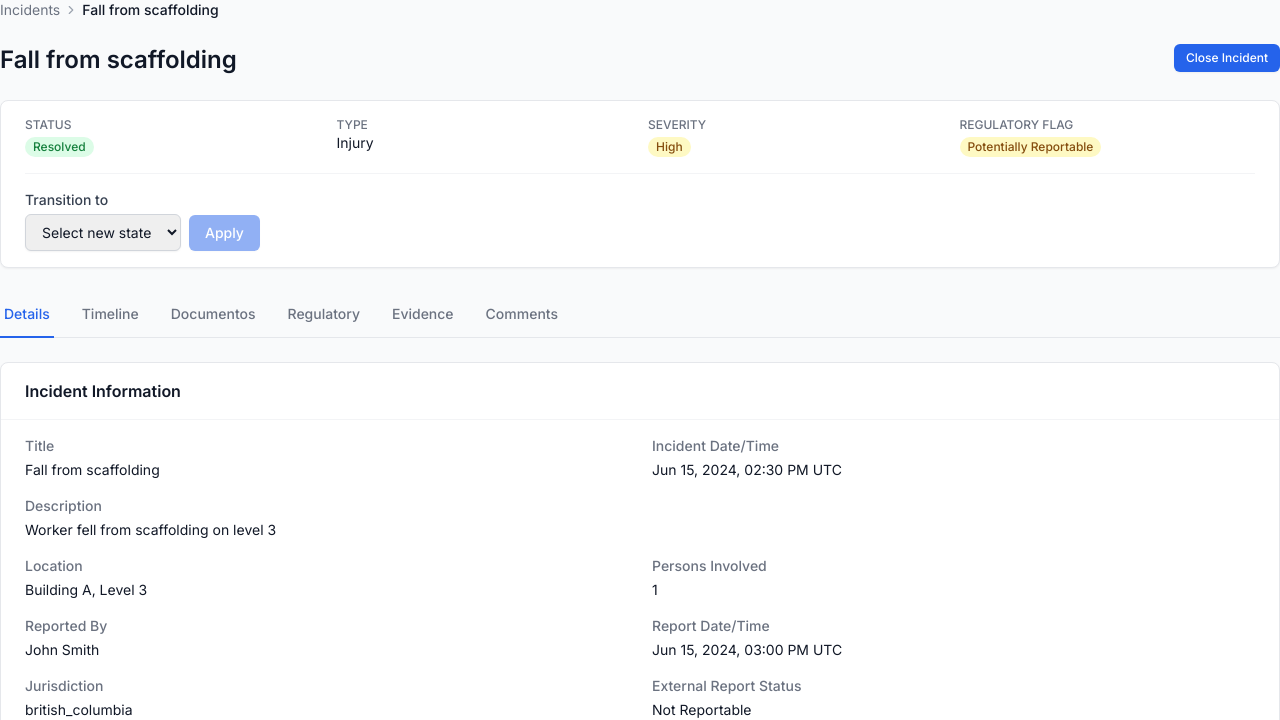
Test: IncidentDetailPage › Closure dialog › opens closure dialog when Close Incident button is clicked
Click the header "Close Incident" button
Click the button "Close Incident".
click(1227, 58)  # box x1=1174 y1=44 x2=1279 y2=72
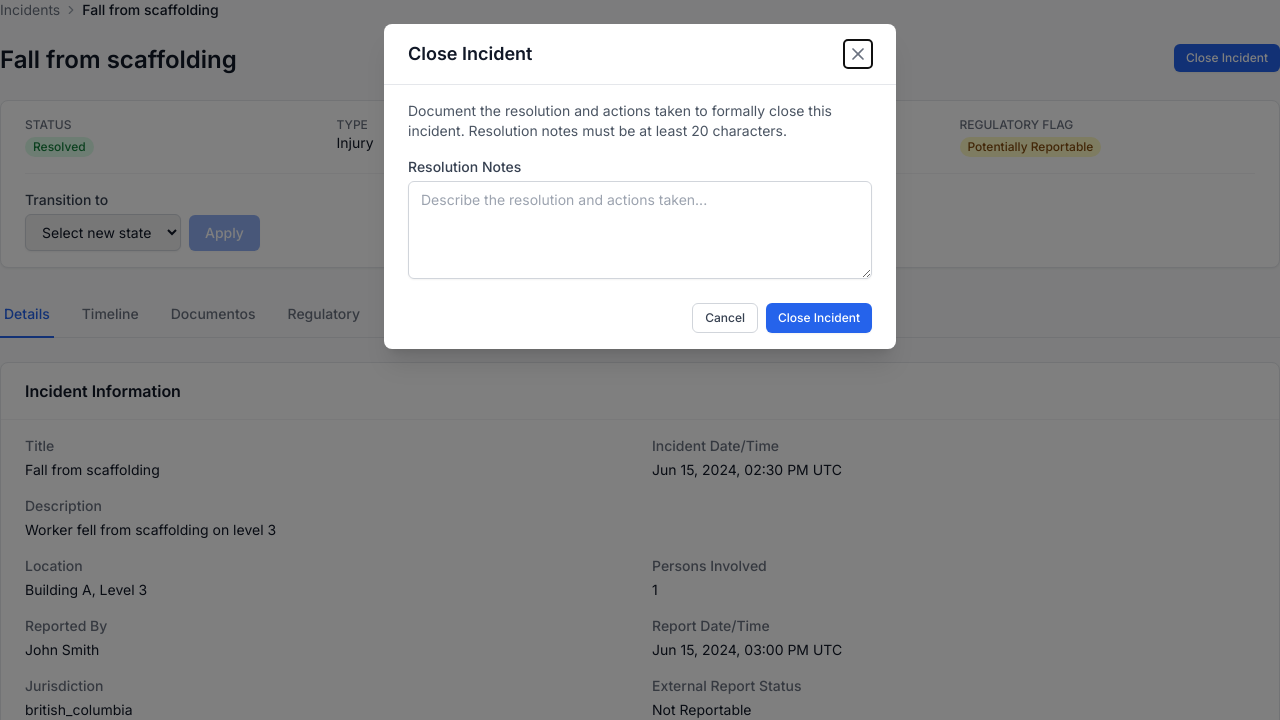
Expected: the text "Document the resolution and actions taken" is shown, x1=408 y1=102 x2=832 y2=139
Expected: the text box labelled "Resolution Notes" is shown, x1=408 y1=181 x2=872 y2=279
